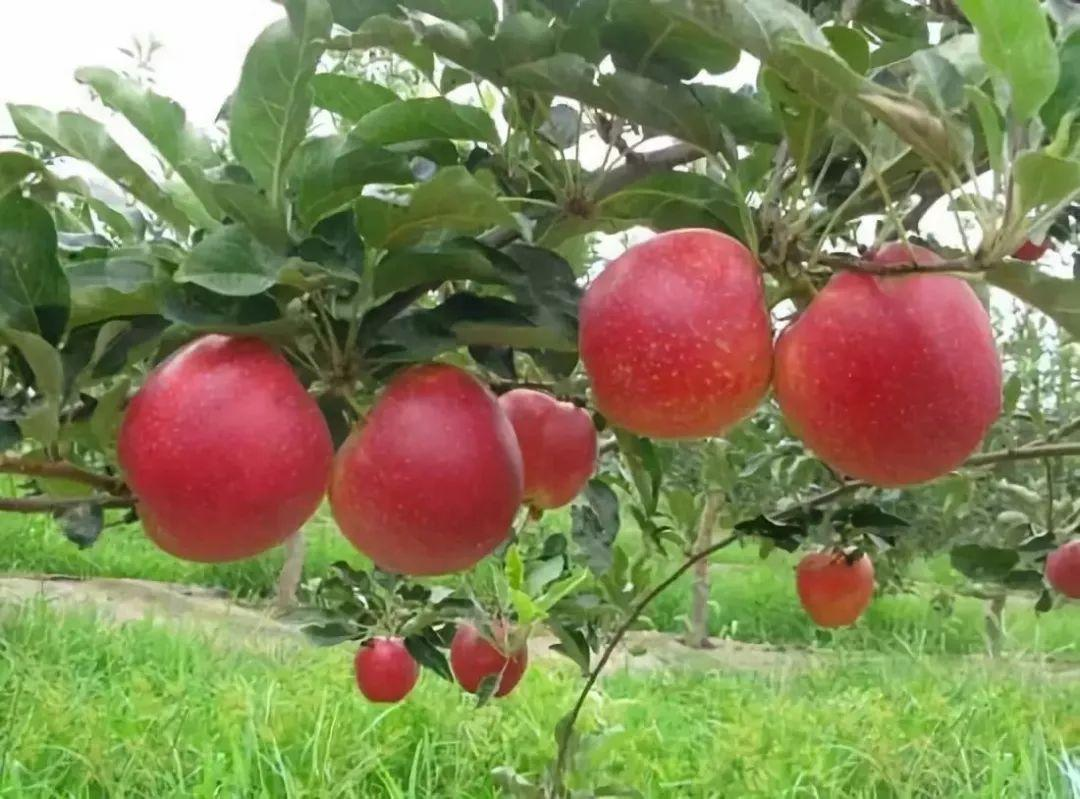apple: (770, 260, 1004, 488), (115, 332, 335, 568), (330, 357, 524, 582), (579, 231, 773, 442), (503, 385, 598, 513), (798, 542, 874, 628), (354, 637, 418, 704), (1044, 538, 1079, 600)
